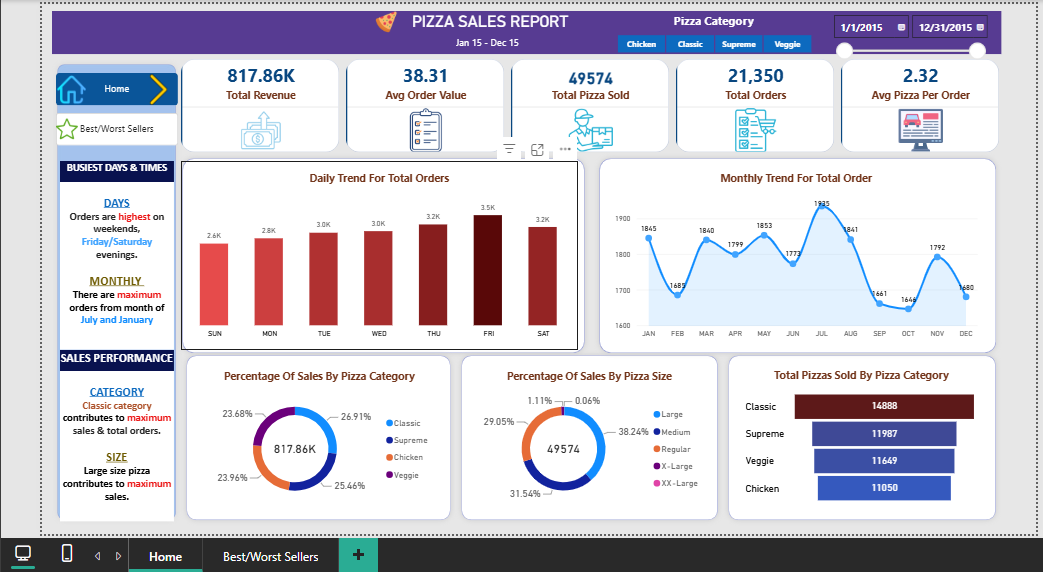

Layout of this report page (visuals, bound fields, positions):
{"tool":"powerbi","page":{"name":"Home","canvas":[1500,800],"ordinal":0},"visuals":[{"type":"shape","box":[15,83.3,195,703.3],"z":0},{"type":"cardVisual","fields":{"Data":["pizza_sales.Total Revenue","pizza_sales.Avg Order Value","pizza_sales.Total Pizza Sold","pizza_sales.Total Orders","pizza_sales.Avg Pizza Per Order"]},"box":[210,83.3,1238.3,141.7],"z":1000},{"type":"textbox","box":[15,10,1433.3,65],"z":2000},{"type":"textbox","box":[625,48.3,116.2,30],"z":3000},{"type":"image","box":[498.3,10,43.3,33.3],"z":4000},{"type":"shape","box":[203.3,225,623.3,310],"z":5000},{"type":"columnChart","title":"Daily Trend For Total Orders","fields":{"Category":["pizza_sales.Order Days"],"Y":["pizza_sales.Total Orders"]},"box":[210,236.7,598.3,285],"z":6000},{"type":"textbox","box":[558.3,11.7,268.8,33.8],"z":7000},{"type":"shape","box":[1028.3,521.7,420,265],"z":8000},{"type":"shape","box":[625,521.7,403.3,265],"z":9000},{"type":"shape","box":[210,521.7,415,265],"z":10000},{"type":"shape","box":[833.3,225,615,310],"z":11000},{"type":"areaChart","title":"Monthly Trend For Total Order","fields":{"Category":["pizza_sales.Order Month"],"Y":["pizza_sales.Total Orders"]},"box":[848.3,236.7,580,285],"z":12000},{"type":"donutChart","title":"Percentage Of Sales By Pizza Category","fields":{"Category":["pizza_sales.pizza_category"],"Y":["pizza_sales.Total Revenue"]},"box":[230,535.7,378.6,235.7],"z":13000},{"type":"textbox","box":[26.7,236.7,171.7,31.7],"z":14000},{"type":"donutChart","title":"Percentage Of Sales By Pizza Size","fields":{"Category":["pizza_sales.pizza_size"],"Y":["pizza_sales.Total Pizza Sold"]},"box":[637.1,535.7,378.6,235.7],"z":15000},{"type":"funnel","title":"Total Pizzas Sold By Pizza Category","fields":{"Category":["pizza_sales.pizza_category"],"Y":["pizza_sales.Total Pizza Sold"]},"box":[1046.7,535,381.7,235],"z":16000},{"type":"textbox","box":[26.7,268.3,171.7,253.3],"z":17000},{"type":"textbox","box":[26.7,521.7,171.7,31.7],"z":18000},{"type":"textbox","box":[26.7,553.3,171.7,226.7],"z":19000},{"type":"slicer","title":"Pizza Category","fields":{"Values":["pizza_sales.pizza_category"]},"box":[848.3,11.7,331.7,63.3],"z":20000},{"type":"slicer","title":"Pizza Category","fields":{"Values":["pizza_sales.order_date"]},"box":[1188.3,11.7,240,71.7],"z":21000},{"type":"pageNavigator","box":[21.1,104.2,184.2,49.8],"z":21001},{"type":"pageNavigator","box":[21.1,164.5,184.2,49.8],"z":21002},{"type":"image","box":[152.5,104.2,46.8,49.8],"z":21003},{"type":"image","box":[21.1,107.2,46.8,43.8],"z":21004},{"type":"image","box":[21.1,163,33.2,51.3],"z":21005}]}

Visuals, with their boxes on the page's 1500x800 design canvas (x1, y1, x2, y2). These are canvas units, not pixel positions in the 1043x572 screenshot, which may show the page scaled, cropped or inside an application window:
shape: select_region(15, 83, 210, 787)
cardVisual - pizza_sales.Total Revenue x pizza_sales.Avg Order Value: select_region(210, 83, 1448, 225)
textbox: select_region(15, 10, 1448, 75)
textbox: select_region(625, 48, 741, 78)
image: select_region(498, 10, 542, 43)
shape: select_region(203, 225, 827, 535)
"Daily Trend For Total Orders" columnChart: select_region(210, 237, 808, 522)
textbox: select_region(558, 12, 827, 46)
shape: select_region(1028, 522, 1448, 787)
shape: select_region(625, 522, 1028, 787)
shape: select_region(210, 522, 625, 787)
shape: select_region(833, 225, 1448, 535)
"Monthly Trend For Total Order" areaChart: select_region(848, 237, 1428, 522)
"Percentage Of Sales By Pizza Category" donutChart: select_region(230, 536, 609, 771)
textbox: select_region(27, 237, 198, 268)
"Percentage Of Sales By Pizza Size" donutChart: select_region(637, 536, 1016, 771)
"Total Pizzas Sold By Pizza Category" funnel: select_region(1047, 535, 1428, 770)
textbox: select_region(27, 268, 198, 522)
textbox: select_region(27, 522, 198, 553)
textbox: select_region(27, 553, 198, 780)
"Pizza Category" slicer: select_region(848, 12, 1180, 75)
"Pizza Category" slicer: select_region(1188, 12, 1428, 83)
pageNavigator: select_region(21, 104, 205, 154)
pageNavigator: select_region(21, 164, 205, 214)
image: select_region(152, 104, 199, 154)
image: select_region(21, 107, 68, 151)
image: select_region(21, 163, 54, 214)
